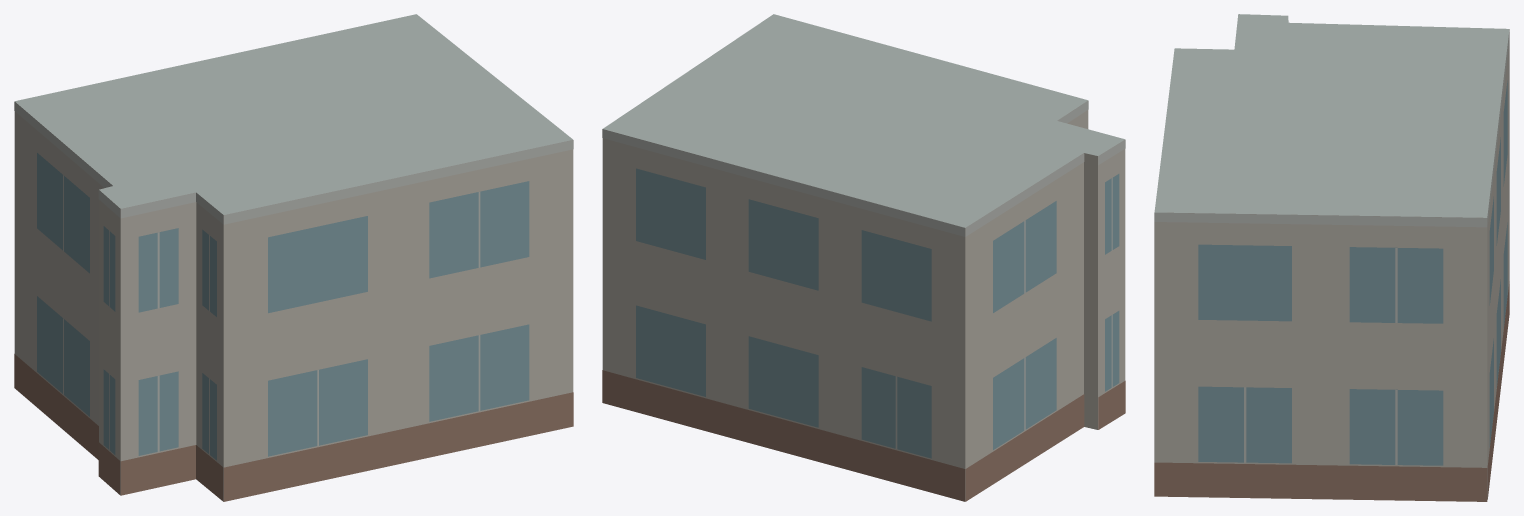
File: survey-upis-33046045.glb
3 renders of one model, left to right at view 1: azimuth 30°, elevation 25°; view 2: azimuth 150°, elevation 25°; view 3: azimuth 270°, elevation 25°, orthographic. The views are drawn at different scales.
Visible parts, largest first — view 1: survey-upis-33046045.tmp; view 2: survey-upis-33046045.tmp; view 3: survey-upis-33046045.tmp.
Boxes of the visible parts, x1,y1,x2,y2 form: survey-upis-33046045.tmp: [14, 14, 573, 501]; survey-upis-33046045.tmp: [602, 14, 1125, 501]; survey-upis-33046045.tmp: [1154, 14, 1509, 501].
Size of the model in its own units: 11.25 by 7.3 by 8.28.
